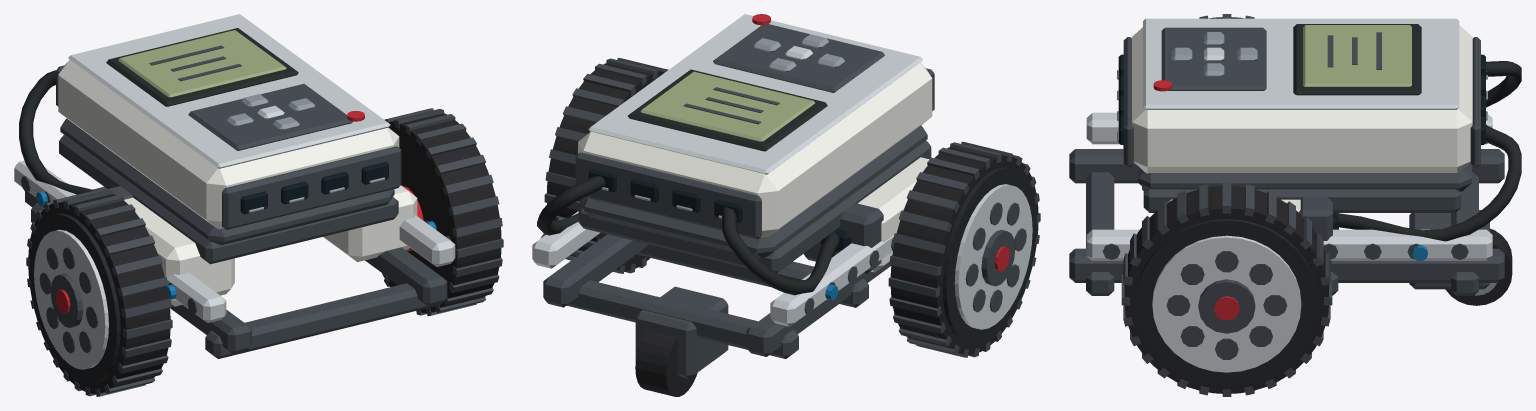
3 renders of one model, left to right at view 1: azimuth 30°, elevation 25°; view 2: azimuth 150°, elevation 25°; view 3: azimuth 270°, elevation 25°, orthographic. The views are drawn at different scales.
Parts seen in each view (by area): view 1: Белый корпус EV3, Верхняя панель, Резиновое колесо.001, Резиновое колесо, Панель портов, Монтажная плита, Дисплей: стекло, Поперечная балка, Аккумулятор EV3, Кнопочная панель, Диск колеса, Боковина шины (+29 smaller); view 2: Белый корпус EV3, Верхняя панель, Резиновое колесо, Аккумулятор EV3, Дисплей: стекло, Панель портов.001, Кнопочная панель, Диск колеса, Монтажная плита, Поперечная балка.002, Боковина шины, Держатель задней опоры (+26 smaller); view 3: Белый корпус EV3, Верхняя панель, Диск колеса.001, Боковина шины.001, Резиновое колесо.001, Дисплей: стекло, Аккумулятор EV3, Кнопочная панель, Длинная балка.001, Лонжерон.001, Монтажная плита, Кабель двигателя.001 (+21 smaller).
Part boxes in pixels (left/top/right/bottom): Белый корпус EV3: left=58, top=60, right=399, bottom=229; Верхняя панель: left=68, top=14, right=390, bottom=168; Резиновое колесо.001: left=382, top=113, right=501, bottom=313; Резиновое колесо: left=28, top=194, right=170, bottom=393; Панель портов: left=222, top=146, right=401, bottom=229; Монтажная плита: left=59, top=135, right=398, bottom=264; Дисплей: стекло: left=118, top=30, right=286, bottom=97; Поперечная балка: left=205, top=283, right=443, bottom=358; Аккумулятор EV3: left=60, top=118, right=394, bottom=245; Кнопочная панель: left=188, top=84, right=352, bottom=150; Диск колеса: left=34, top=229, right=108, bottom=369; Боковина шины: left=30, top=213, right=120, bottom=384; Белый корпус EV3: left=578, top=62, right=932, bottom=237; Верхняя панель: left=588, top=14, right=922, bottom=174; Резиновое колесо: left=890, top=147, right=1038, bottom=354; Аккумулятор EV3: left=580, top=125, right=927, bottom=258; Дисплей: стекло: left=640, top=71, right=814, bottom=141; Панель портов.001: left=575, top=152, right=761, bottom=239; Кнопочная панель: left=713, top=24, right=884, bottom=92; Диск колеса: left=954, top=184, right=1032, bottom=329; Монтажная плита: left=578, top=140, right=931, bottom=272; Поперечная балка.002: left=567, top=280, right=798, bottom=358; Боковина шины: left=942, top=167, right=1036, bottom=344; Держатель задней опоры: left=635, top=286, right=728, bottom=378; Белый корпус EV3: left=1132, top=25, right=1472, bottom=173; Верхняя панель: left=1143, top=18, right=1459, bottom=109; Диск колеса.001: left=1152, top=235, right=1301, bottom=372; Боковина шины.001: left=1136, top=219, right=1317, bottom=385; Резиновое колесо.001: left=1124, top=186, right=1328, bottom=393; Дисплей: стекло: left=1303, top=25, right=1411, bottom=86; Аккумулятор EV3: left=1138, top=163, right=1471, bottom=191; Кнопочная панель: left=1161, top=27, right=1266, bottom=90; Длинная балка.001: left=1086, top=229, right=1492, bottom=260; Лонжерон.001: left=1069, top=248, right=1504, bottom=282; Монтажная плита: left=1143, top=188, right=1461, bottom=212; Кабель двигателя.001: left=1336, top=124, right=1521, bottom=241.
Size of the model in its own units: 3.83 by 2.15 by 3.53.
